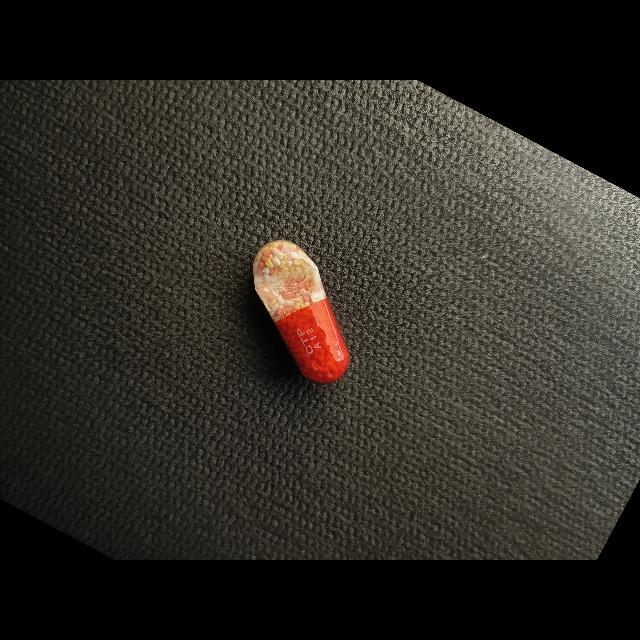Defective Capsule: (253, 240, 349, 383)
